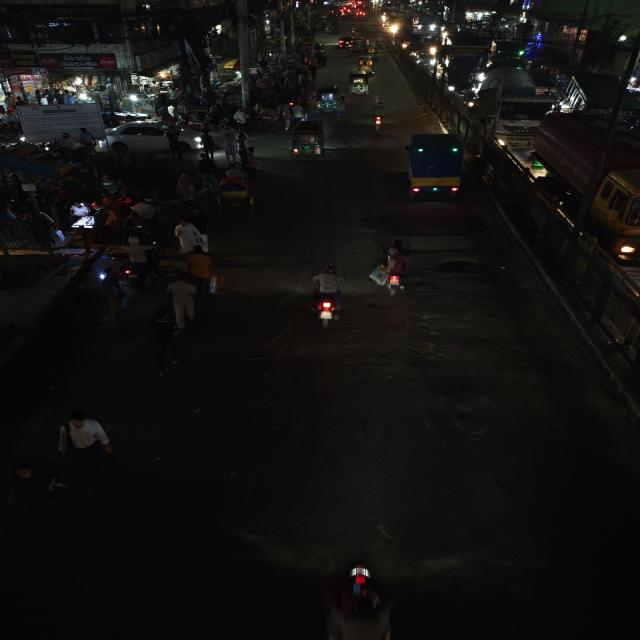bus: (439, 33, 492, 83)
car: (102, 118, 196, 156)
cng: (287, 119, 330, 161), (311, 84, 344, 116), (347, 70, 371, 96), (355, 56, 374, 70)
motorcycle: (302, 262, 353, 332), (367, 237, 418, 300), (122, 198, 161, 242), (368, 101, 390, 133)
pedestrian: (55, 405, 116, 473), (145, 309, 192, 379), (164, 273, 199, 332), (184, 244, 219, 295), (172, 218, 204, 254), (171, 170, 199, 207), (194, 155, 218, 189), (221, 130, 241, 164), (239, 146, 260, 176), (232, 106, 250, 130)
rickshaw: (213, 170, 262, 217)
truck: (528, 110, 640, 271), (478, 74, 558, 150), (400, 130, 469, 202)
